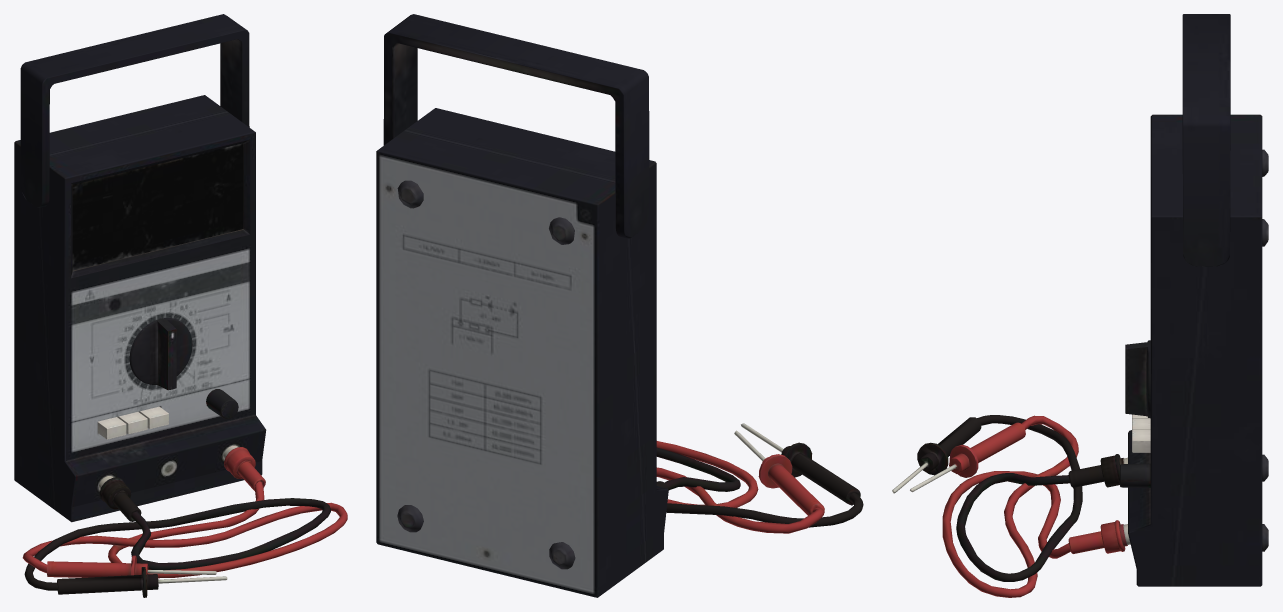
File: retro_multimeter.glb
The picture shows the model from 3 angles, left to right: view 1: azimuth 30°, elevation 25°; view 2: azimuth 150°, elevation 25°; view 3: azimuth 270°, elevation 25°; orthographic projection. The views are drawn at different scales.
Visible parts, largest first — view 1: retro_multimeter_LOD0, retro_multimeter_cables_LOD0, retro_multimeter_handle_LOD0, retro_multimeter_dial_LOD0, retro_multimeter_buttons_LOD0, retro_multimeter_knob_LOD0; view 2: retro_multimeter_LOD0, retro_multimeter_handle_LOD0, retro_multimeter_cables_LOD0; view 3: retro_multimeter_LOD0, retro_multimeter_cables_LOD0, retro_multimeter_handle_LOD0, retro_multimeter_dial_LOD0, retro_multimeter_knob_LOD0, retro_multimeter_buttons_LOD0.
Part boxes in pixels (box(x1,y1,x2,y2)): retro_multimeter_LOD0: box(14, 95, 266, 522); retro_multimeter_cables_LOD0: box(22, 445, 347, 597); retro_multimeter_handle_LOD0: box(20, 14, 249, 207); retro_multimeter_dial_LOD0: box(129, 318, 192, 390); retro_multimeter_buttons_LOD0: box(97, 406, 168, 439); retro_multimeter_knob_LOD0: box(206, 389, 238, 418); retro_multimeter_LOD0: box(376, 108, 668, 597); retro_multimeter_handle_LOD0: box(383, 14, 649, 238); retro_multimeter_cables_LOD0: box(656, 423, 863, 533); retro_multimeter_LOD0: box(1128, 114, 1268, 586); retro_multimeter_cables_LOD0: box(892, 415, 1130, 597); retro_multimeter_handle_LOD0: box(1182, 14, 1230, 266); retro_multimeter_dial_LOD0: box(1125, 340, 1150, 418); retro_multimeter_knob_LOD0: box(1120, 463, 1150, 487); retro_multimeter_buttons_LOD0: box(1132, 414, 1150, 452).
Size of the model in its own units: 0.216 by 0.2785 by 0.2025.
2 materials, 2 textured.
